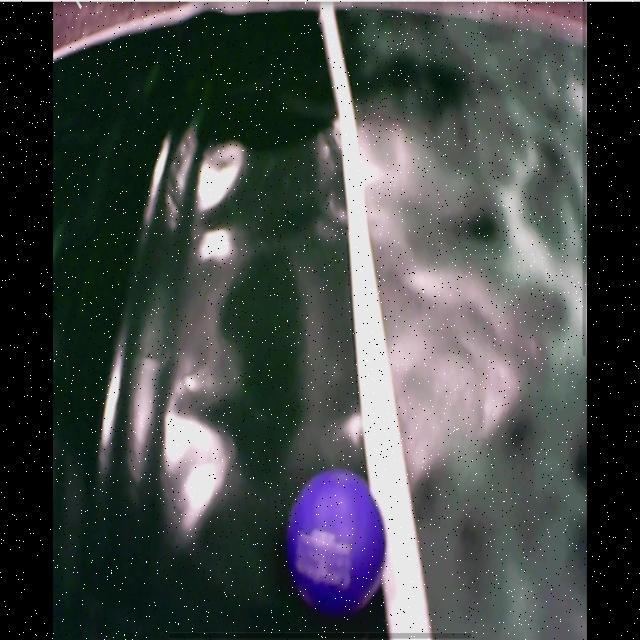ball: (290, 472, 389, 620)
